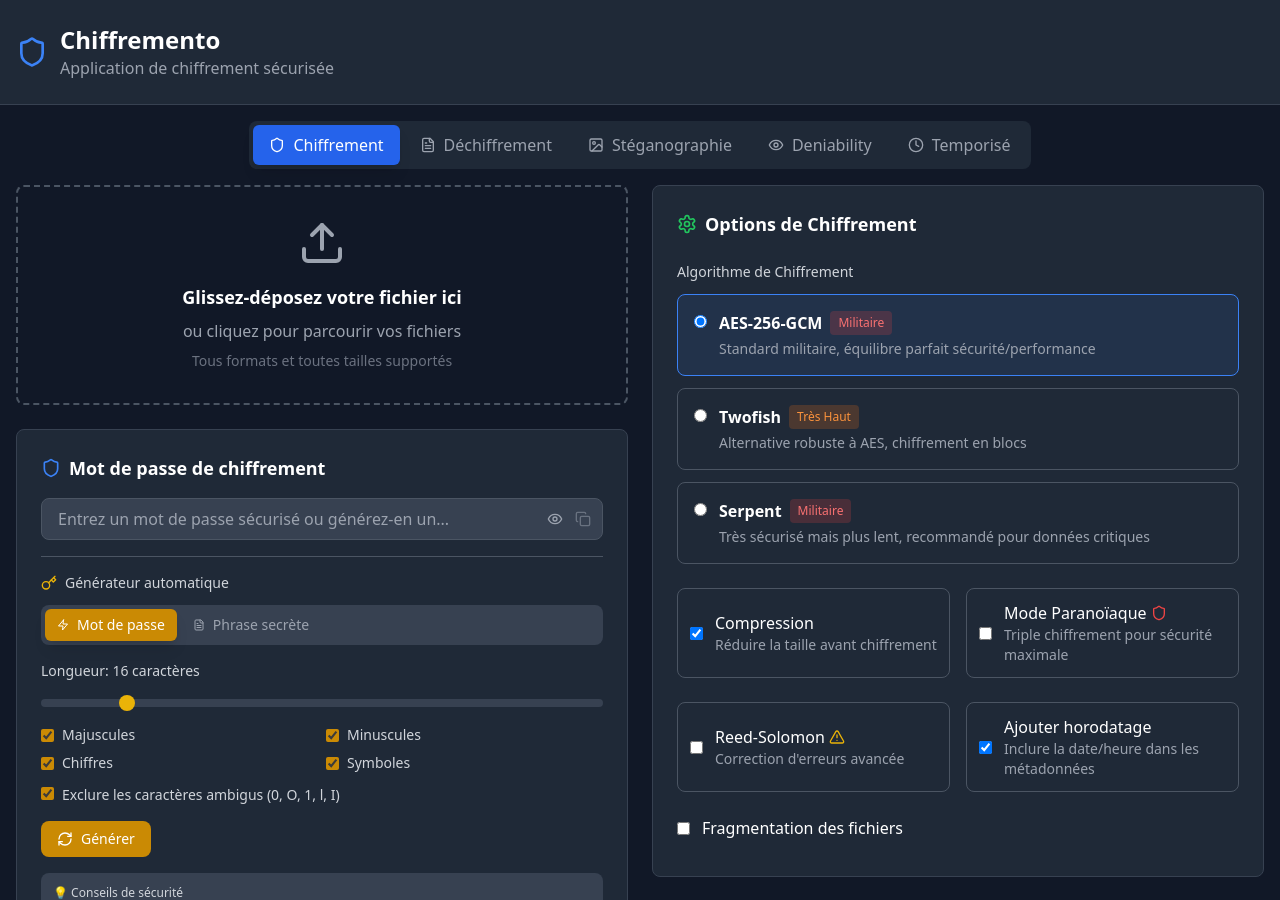
Scenario: App Integration Tests › Decryption Tab Integration › should show decryption interface when switching to decrypt tab
Click the button "Déchiffrement": (486, 145) [404, 125, 568, 165]
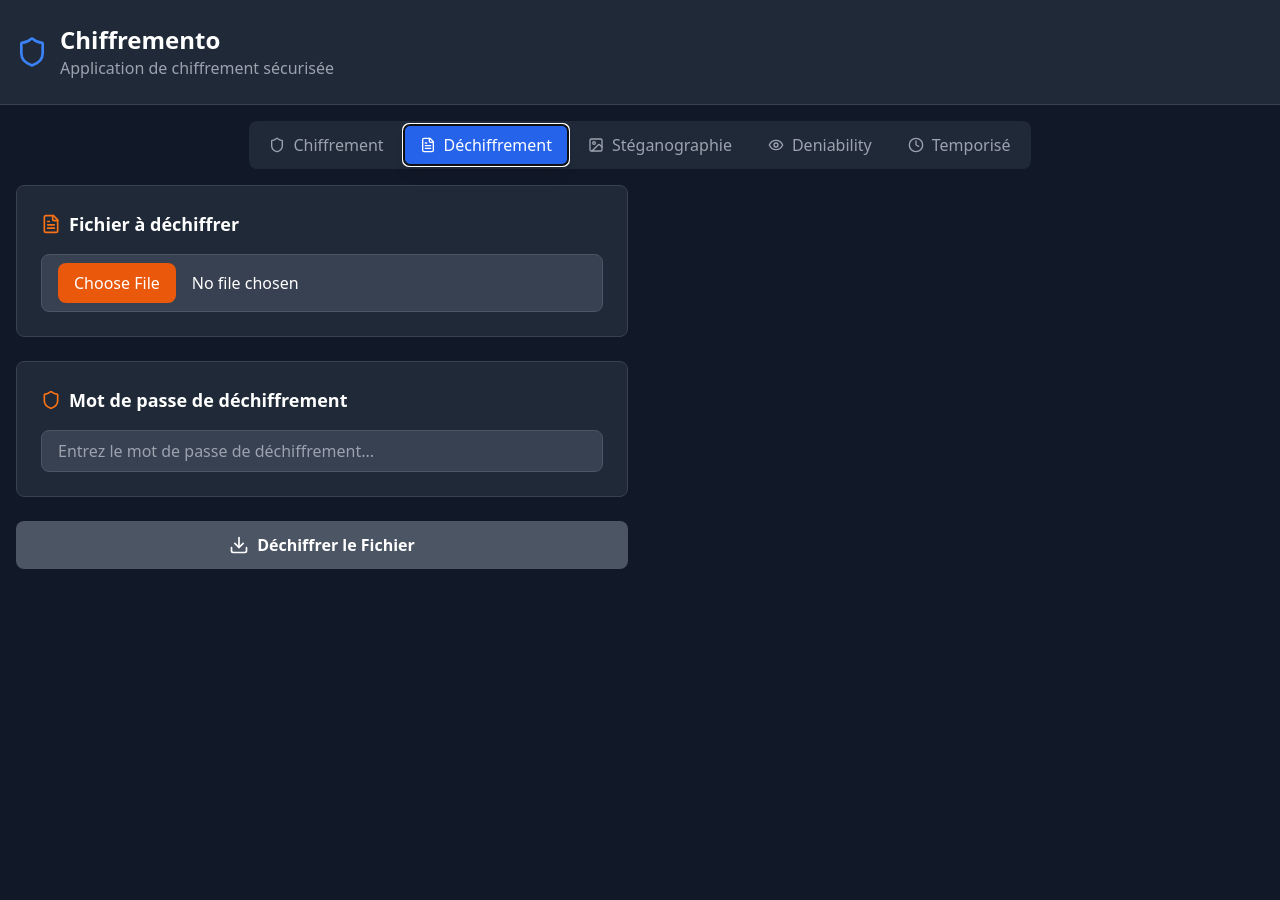
Check: the heading "Fichier à déchiffrer" is shown, box [41, 212, 239, 236]
Check: the heading "Mot de passe de déchiffrement" is shown, box [41, 388, 348, 412]
